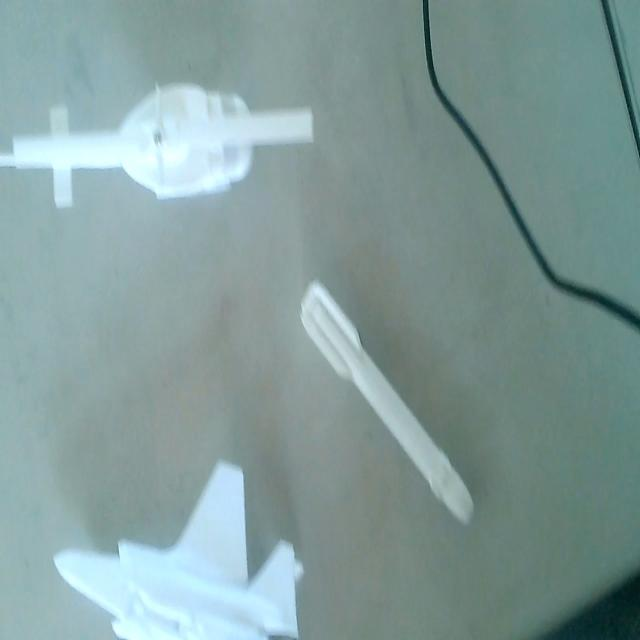Helicopter: (1, 82, 315, 214)
Rocket: (294, 279, 478, 530)
